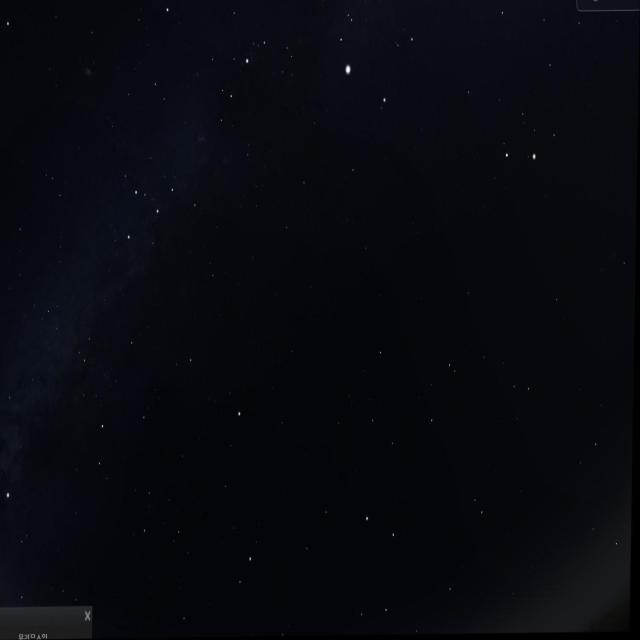cassiopeia: (122, 166, 210, 282)
